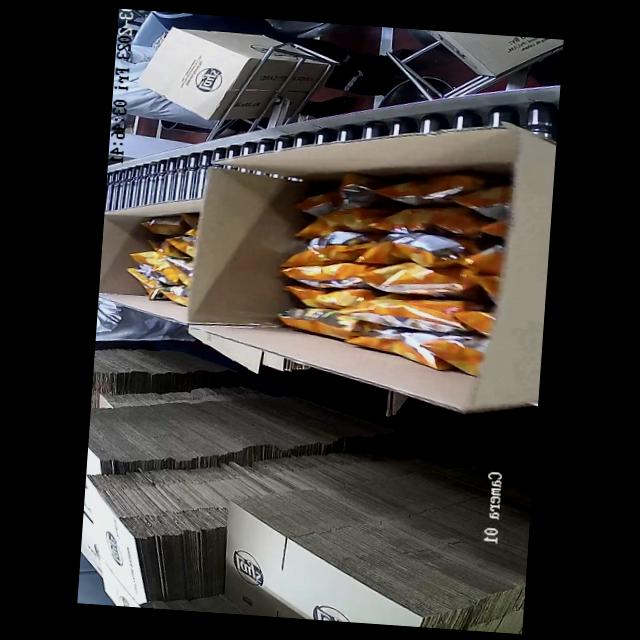cheese: (294, 178, 504, 358), (123, 213, 198, 304)
